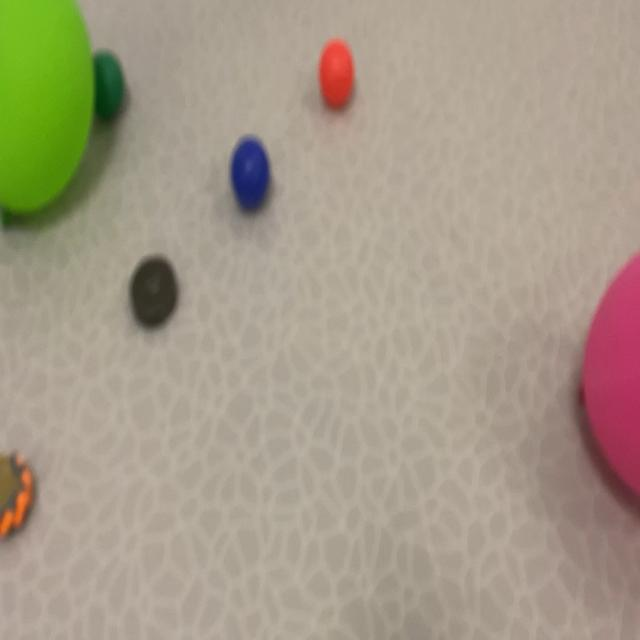7: (304, 6, 379, 162)
blue ball: (86, 12, 376, 232)
green ball: (183, 98, 283, 264)
red ball: (89, 9, 128, 160)
